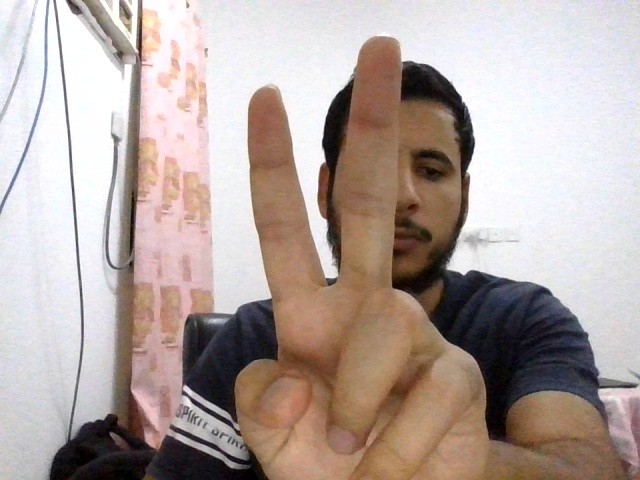Two: (232, 36, 487, 479)
